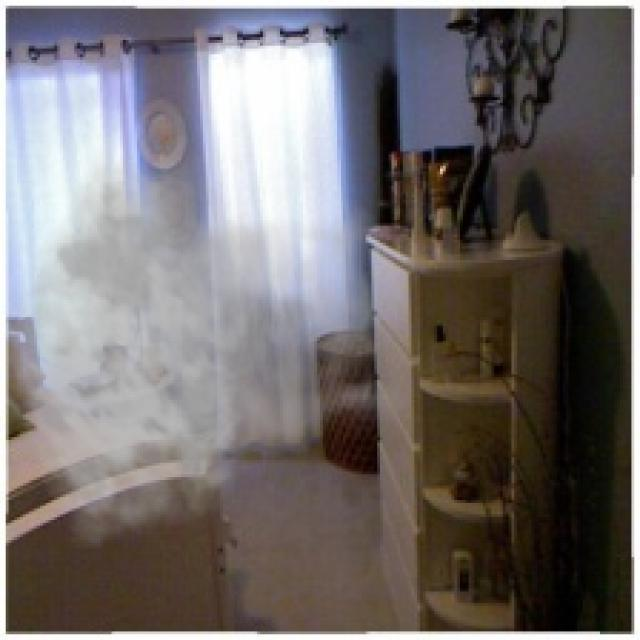Smoke: (6, 126, 417, 548)
